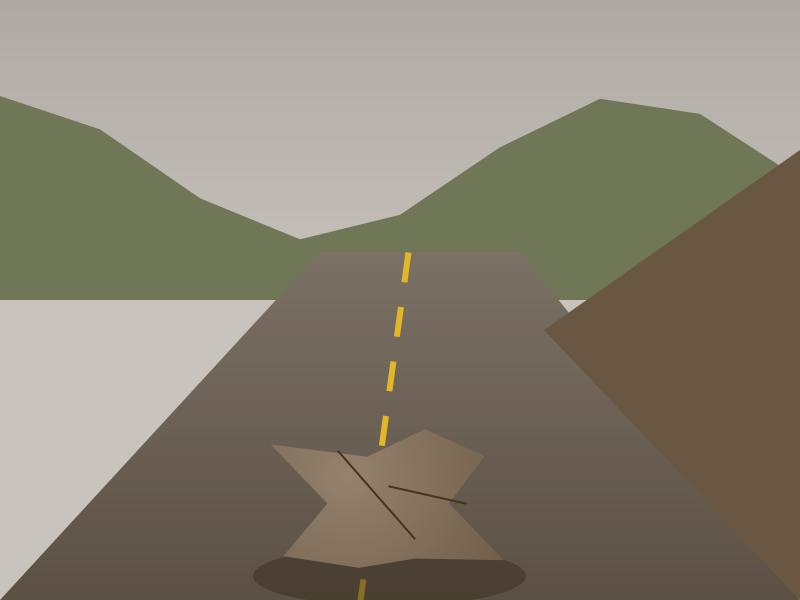ROAD_OBSTACLE: (263, 417, 516, 590)
